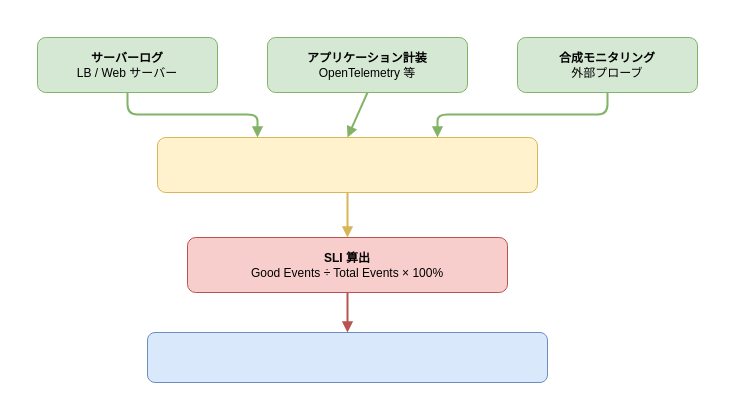
Some shapes in this 734 by 414 pixel diagram are drawn without their labels. The box of each missing label's shape, as (x1, y1, x2, y2) in pixels:
ダッシュボード & バーンレートアラート Grafana / SLO ダッシュボード: (146, 332, 548, 382)
メトリクス集約基盤 Prometheus / Datadog / Cloud Monitoring: (156, 136, 538, 192)
